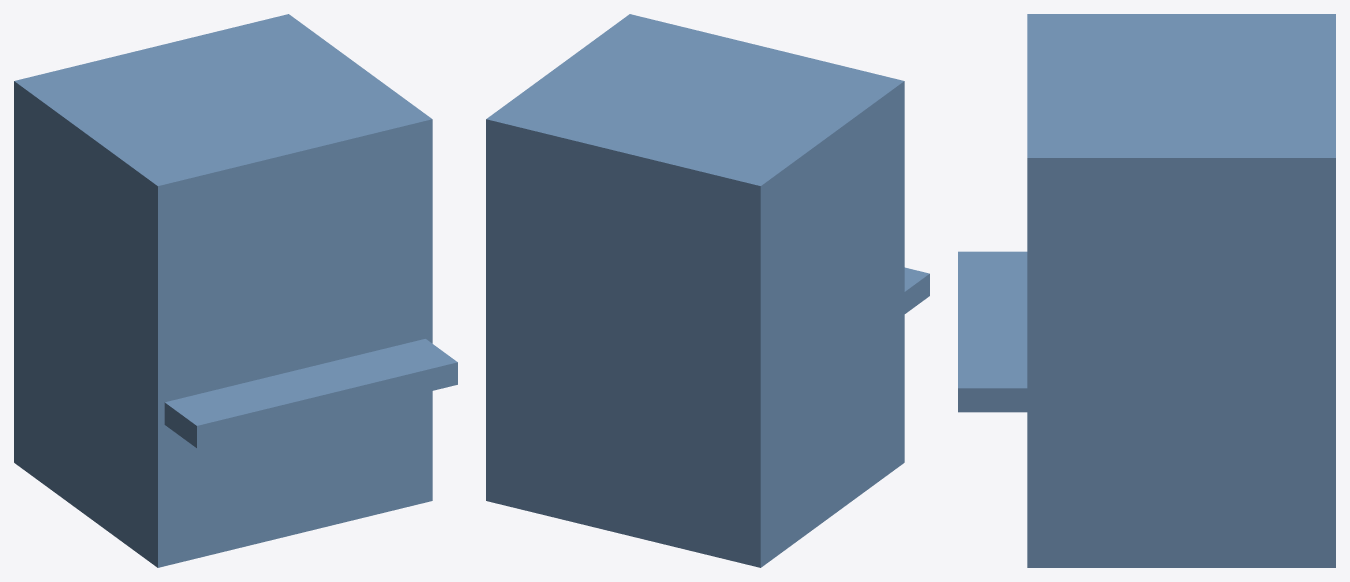
The model's file is com_shop.glb.
3 views of the same model, side by side, from view 1: azimuth 30°, elevation 25°; view 2: azimuth 150°, elevation 25°; view 3: azimuth 270°, elevation 25° (orthographic). The views are drawn at different scales.
Visible parts, largest first — view 1: com_shop; view 2: com_shop; view 3: com_shop.
Part boxes in pixels (x1,y1,x2,y2): com_shop: (14,14,457,567); com_shop: (486,14,929,567); com_shop: (958,14,1335,567).
Size of the model in its own units: 0.64 by 0.85 by 0.71.
